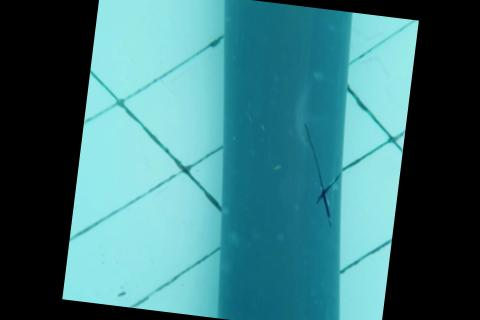keretakan: (292, 122, 349, 229)
